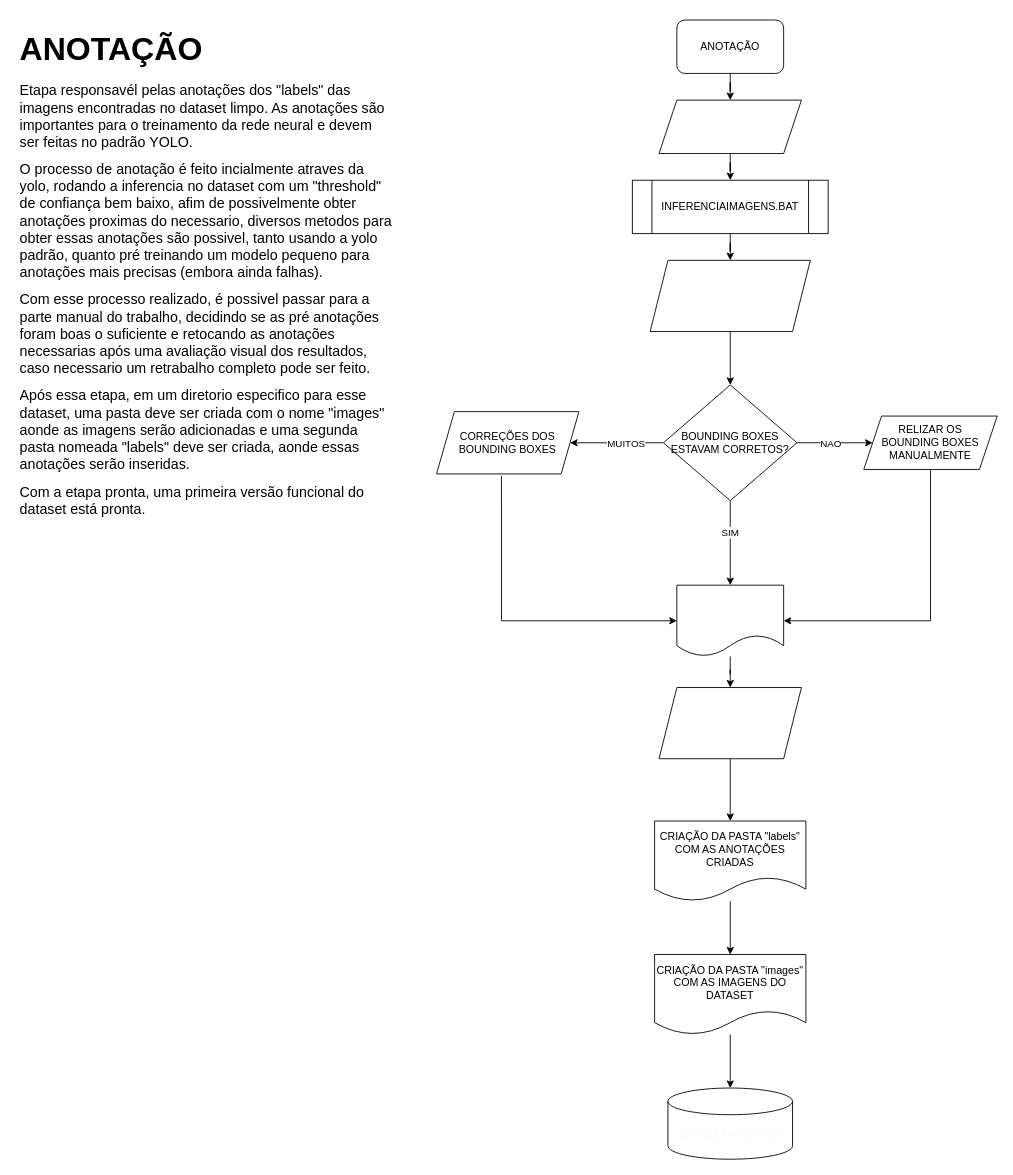
Image size: 1013x1175. Some labels were removed from this diagram. Here are the shapes that lost their labels. From the top down, the centre of each, then its label:
At (729,126): "OBTER BOUNDING BOXES PELO YOLO".
At (729,295): "AVALIAR QUALIDADE DA INFERENCIA DA YOLO".
At (730,620): "CRIAÇÃO DAS ANOTAÇÕES PARA AS IMAGENS".
At (729,723): "INCLUIR AS ANOTAÇÕES PARA O DATASET".
